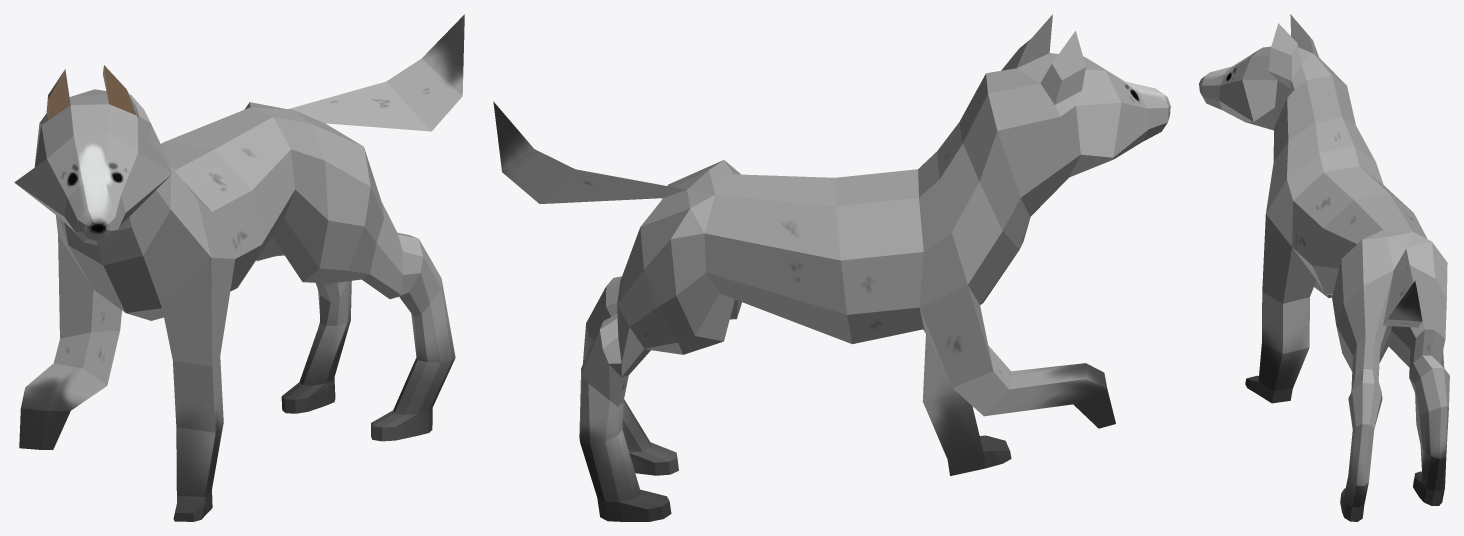
File: wolf.gltf
3 renders of one model, left to right at view 1: azimuth 30°, elevation 25°; view 2: azimuth 150°, elevation 25°; view 3: azimuth 270°, elevation 25°, orthographic. The views are drawn at different scales.
Visible parts, largest first — view 1: wolf; view 2: wolf; view 3: wolf.
Part boxes in pixels (x1,y1,x2,y2): wolf: [14, 14, 464, 521]; wolf: [493, 14, 1170, 521]; wolf: [1199, 14, 1449, 521].
Bounding box in the file's own units: 1.85 × 1.65 × 1.03.
1 material, 1 textured.
